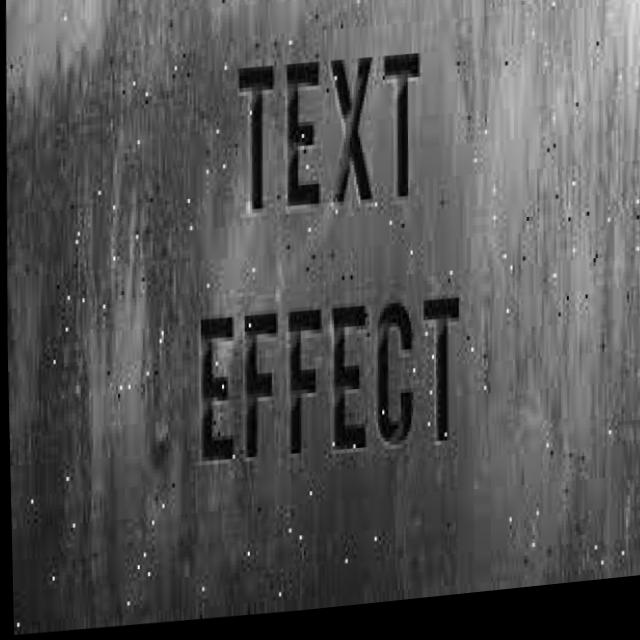ocr: (187, 47, 474, 495)
